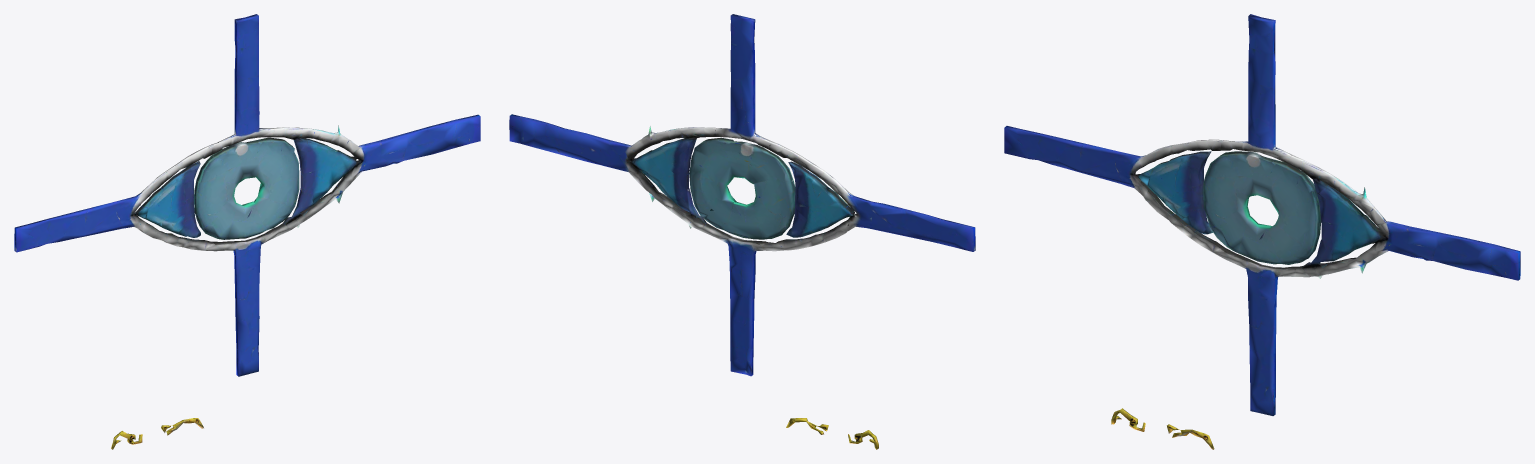
File: DreamEye.glb
3 renders of one model, left to right at view 1: azimuth 30°, elevation 25°; view 2: azimuth 150°, elevation 25°; view 3: azimuth 330°, elevation 25°, orthographic. The views are drawn at different scales.
Bounding box in the file's own units: 2 × 1.65 × 0.0213.
Materials: 1 (1 with a texture image).
